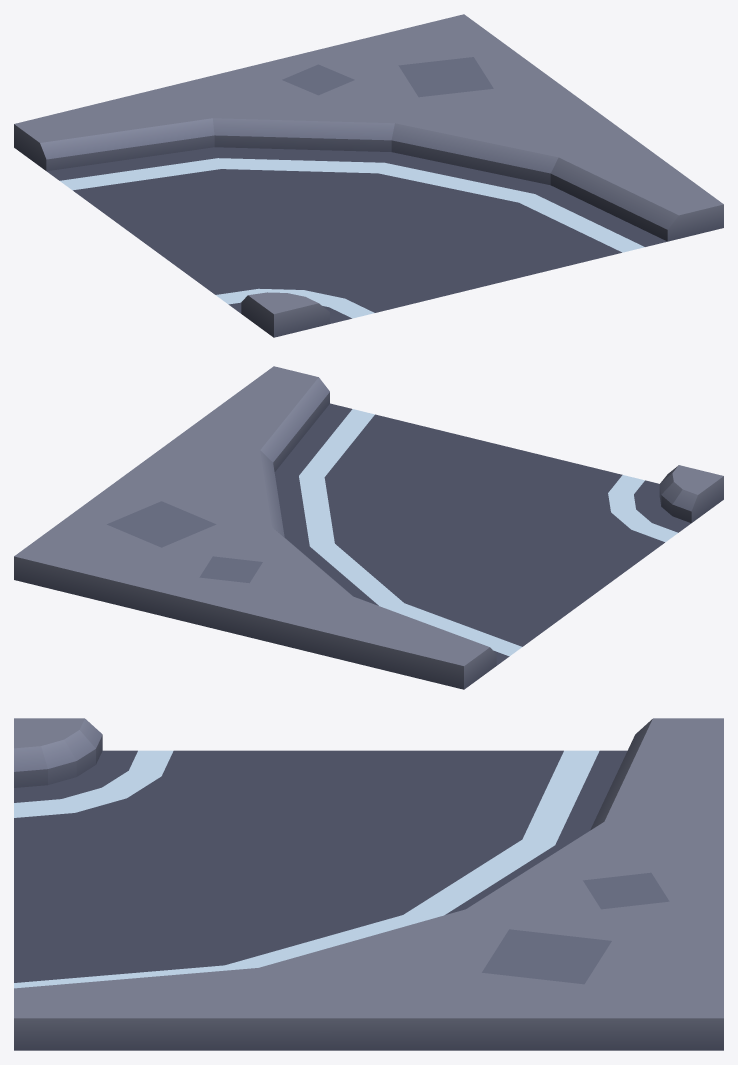
File: road-corner.glb
The picture shows the model from 3 angles, top to bottom: view 1: azimuth 30°, elevation 25°; view 2: azimuth 150°, elevation 25°; view 3: azimuth 270°, elevation 25°; orthographic projection. The views are drawn at different scales.
Visible parts, largest first — view 1: road-corner; view 2: road-corner; view 3: road-corner.
Boxes of the visible parts, x1=… form: road-corner: x1=14, y1=14, x2=723, y2=337; road-corner: x1=14, y1=366, x2=723, y2=689; road-corner: x1=14, y1=718, x2=723, y2=1050.
Bounding box in the file's own units: 1 × 0.06 × 1.
1 material, 1 textured.
